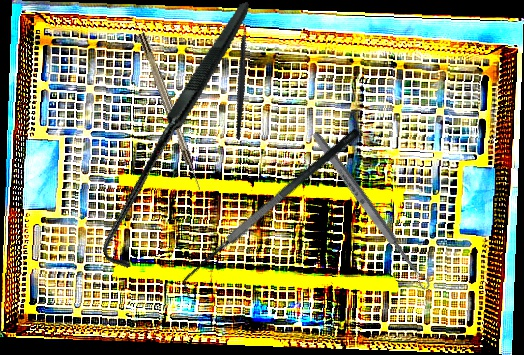Chopper: (193, 13, 285, 141)
Hook Surgical: (39, 1, 320, 274), (137, 31, 204, 192)
Spatula Surgical: (170, 126, 374, 300)
Surgical Spoon: (309, 129, 433, 293)
